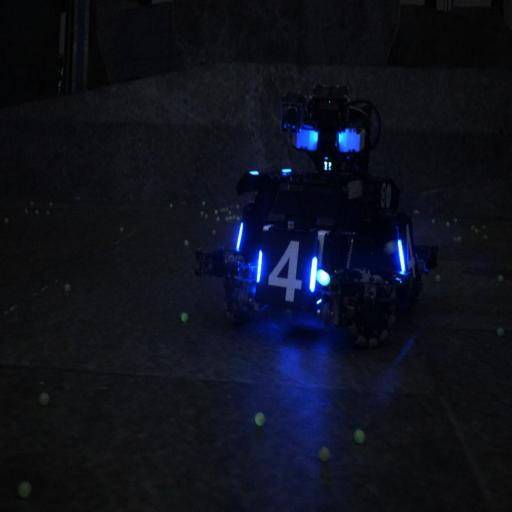target: (255, 226, 321, 308), (394, 219, 421, 286)
